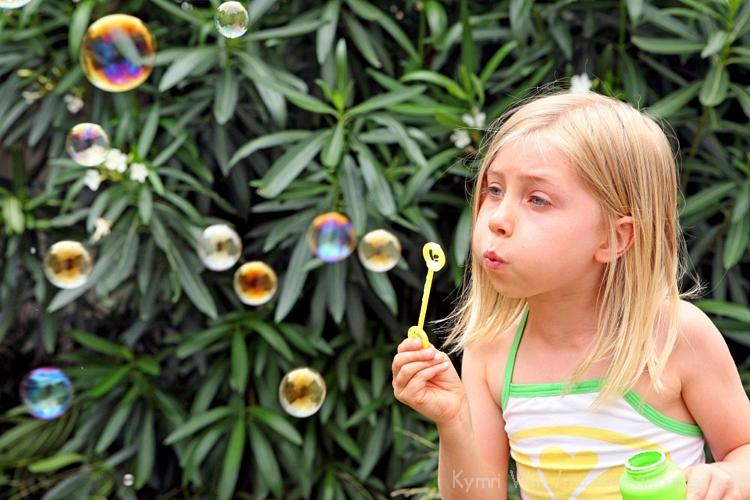person: (392, 89, 750, 500)
